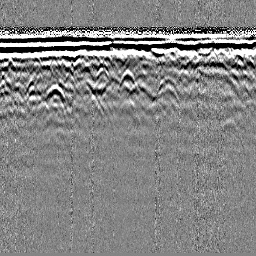cavity: (119, 69, 138, 91)
